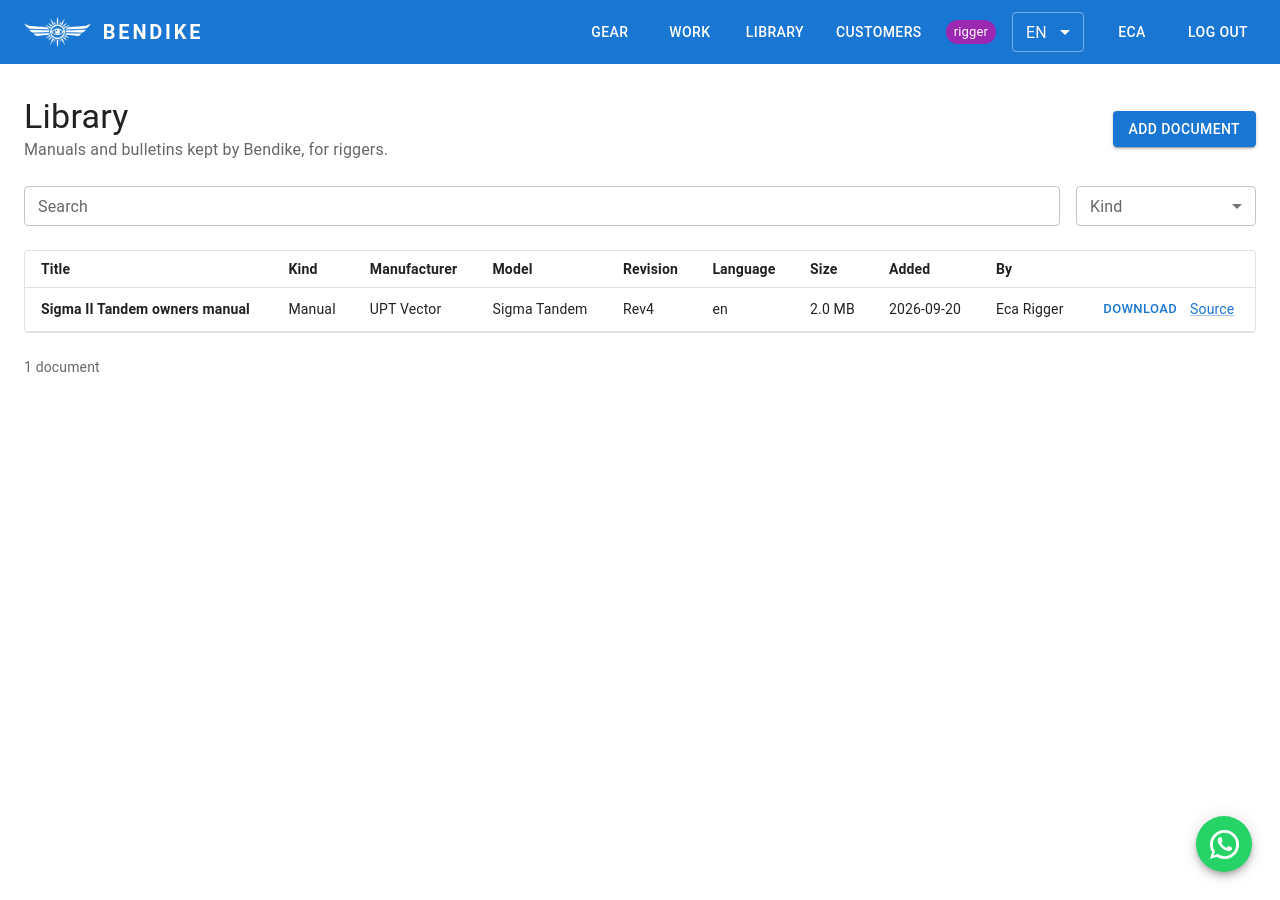
Test: LibraryPage › a failed download shows the error
This screenshot has width=1280, height=900.
Expected: the text "Sigma II Tandem owners manual" is shown, [41,299,256,319]
Click the button "Download".
click(1140, 309)  # box [1098,294,1182,325]
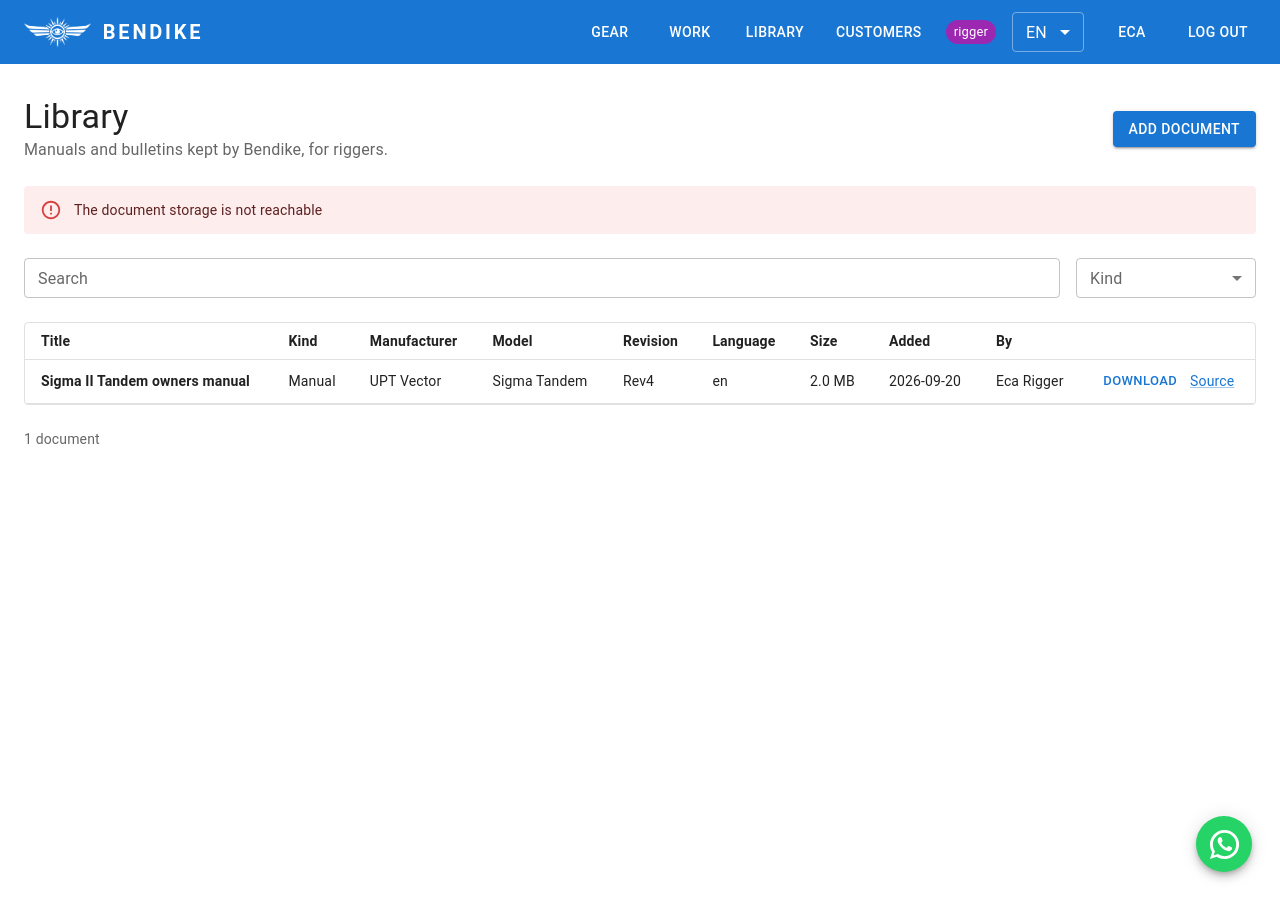
Expected: the text "The document storage is not reachable" is shown, [74,202,322,218]
